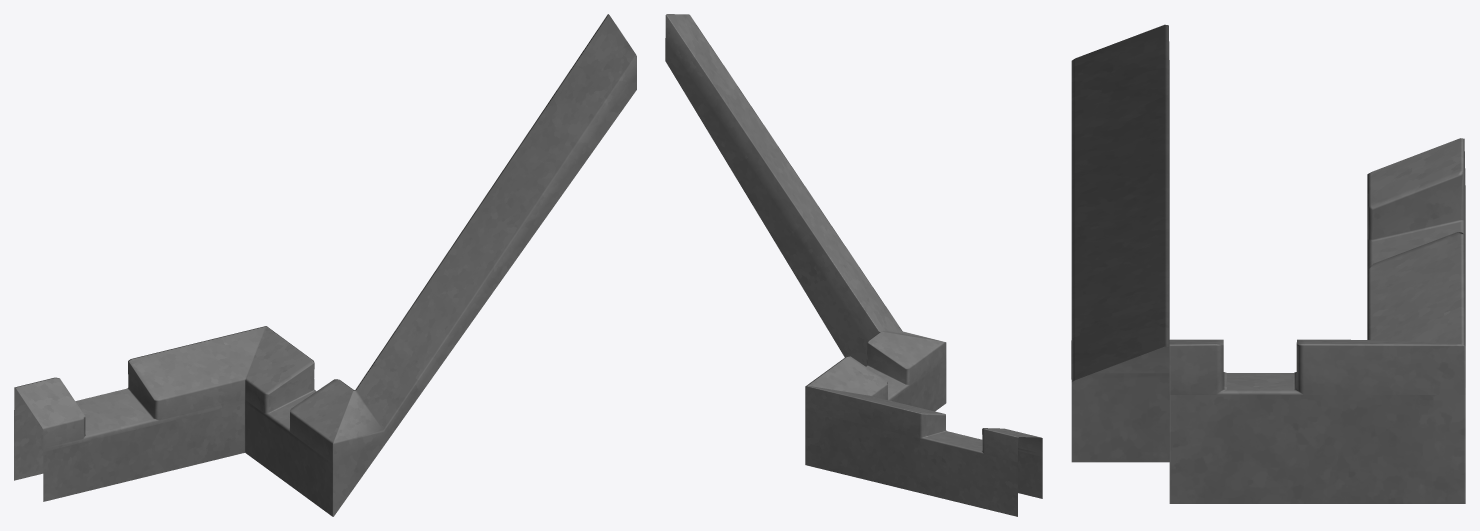
File: BrickRailing_ExteriorMainEntrance.fbx
The picture shows the model from 3 angles, left to right: view 1: azimuth 30°, elevation 25°; view 2: azimuth 150°, elevation 25°; view 3: azimuth 270°, elevation 25°; orthographic projection. The views are drawn at different scales.
Visible parts, largest first — view 1: BrickRailing_ExteriorMainEntrance; view 2: BrickRailing_ExteriorMainEntrance; view 3: BrickRailing_ExteriorMainEntrance.
Boxes of the visible parts, x1,y1,x2,y2 form: BrickRailing_ExteriorMainEntrance: (14, 14, 636, 516); BrickRailing_ExteriorMainEntrance: (665, 14, 1042, 516); BrickRailing_ExteriorMainEntrance: (1071, 24, 1465, 503).
Bounding box in the file's own units: 750 × 578 × 300.
Materials: 1 (1 with a texture image).
